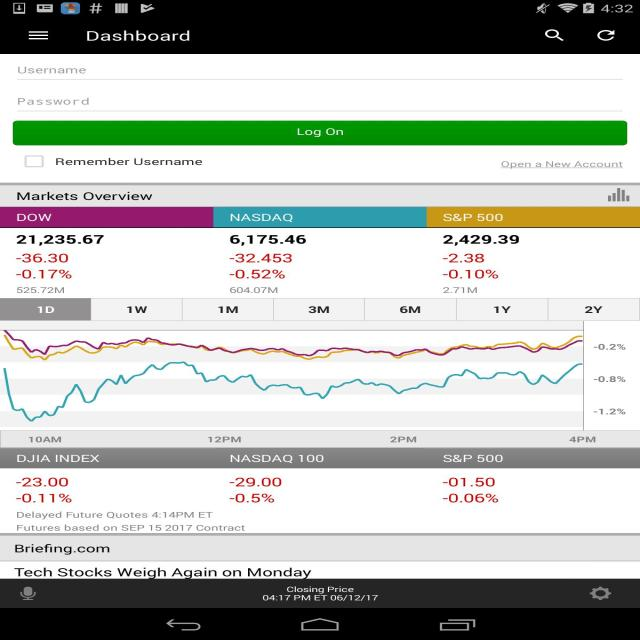button: (12, 119, 628, 145), (5, 582, 47, 606), (537, 21, 569, 51), (580, 582, 619, 606), (588, 24, 625, 46), (25, 24, 59, 46), (26, 154, 44, 168)
field: (11, 85, 628, 113), (14, 55, 628, 79)
heading: (78, 27, 198, 46), (15, 190, 158, 202)
image: (0, 329, 640, 429)
label: (52, 157, 204, 168), (15, 93, 90, 107), (16, 62, 89, 76)
link: (502, 160, 626, 172)
text: (7, 476, 513, 511), (0, 451, 513, 465), (12, 234, 104, 296), (15, 511, 248, 535), (440, 234, 522, 296), (224, 234, 308, 291), (12, 566, 314, 580), (254, 584, 390, 608), (13, 543, 112, 558), (228, 209, 296, 225), (443, 212, 508, 224), (12, 212, 55, 224)
